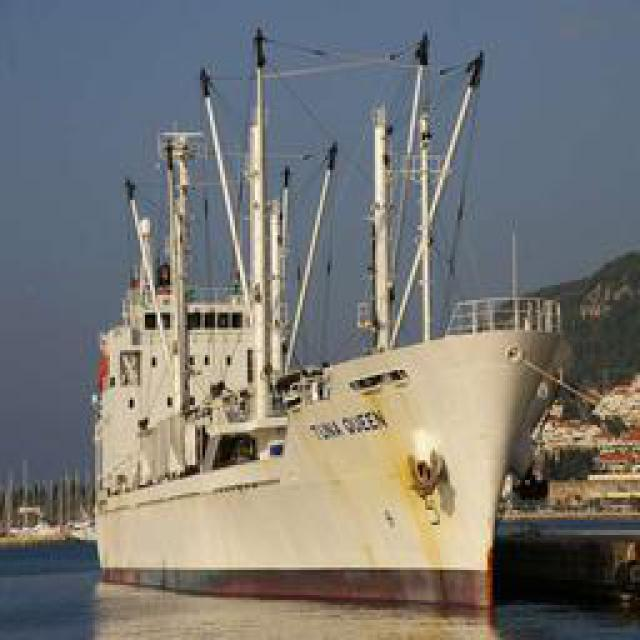Ship: (88, 25, 574, 615)
